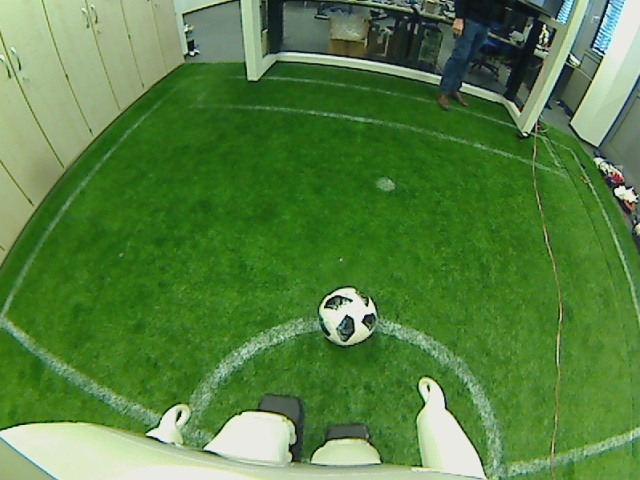ball: (316, 285, 379, 347)
